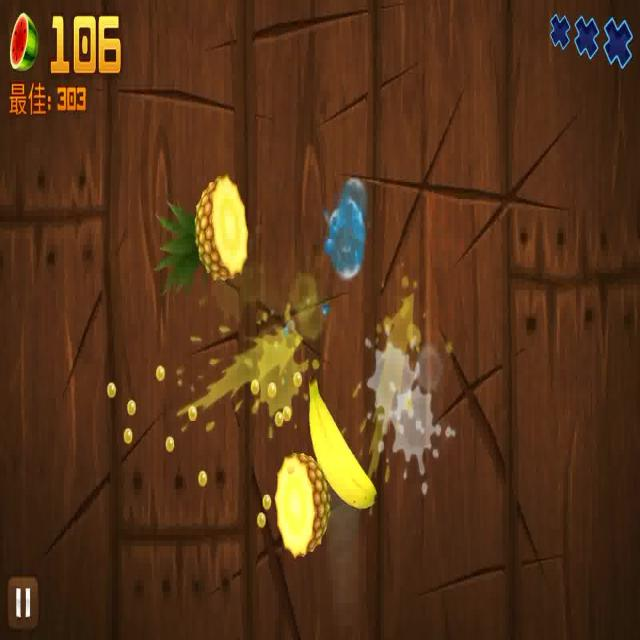fruit: (153, 180, 246, 294), (311, 379, 378, 511), (276, 447, 332, 551)
